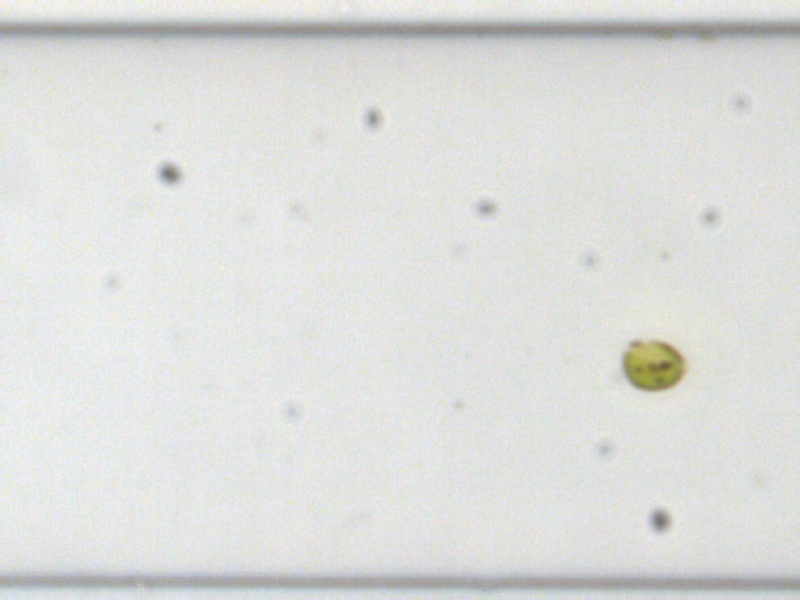Haematococcus: (619, 341, 682, 391)
